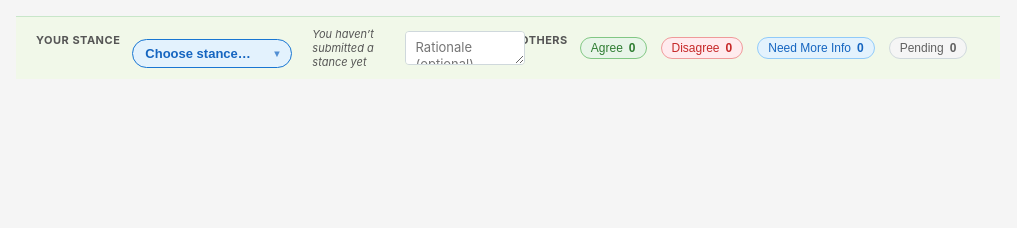
Test: DecisionBar › selecting a stance closes the menu
The width and height of the screenshot is (1017, 228).
Click the button with test id "stance-trigger-btn". click: point(212, 53)
box: [132,38,292,68]
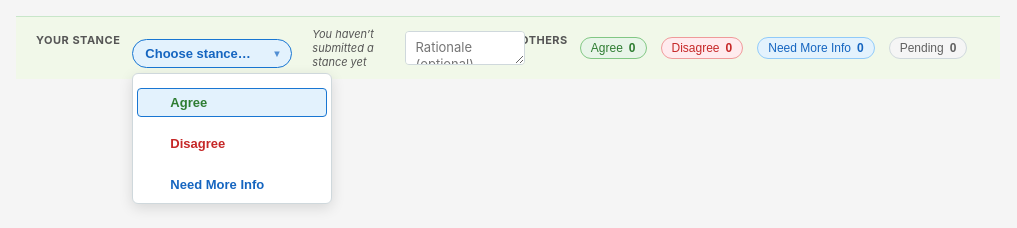
Click the menu item with test id "stance-btn-agree". click: point(232, 102)
box: [137,88,327,117]
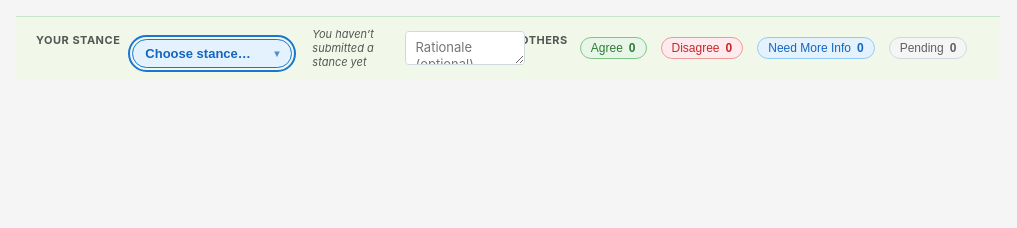
Now the menu item with test id "stance-btn-agree" is gone
